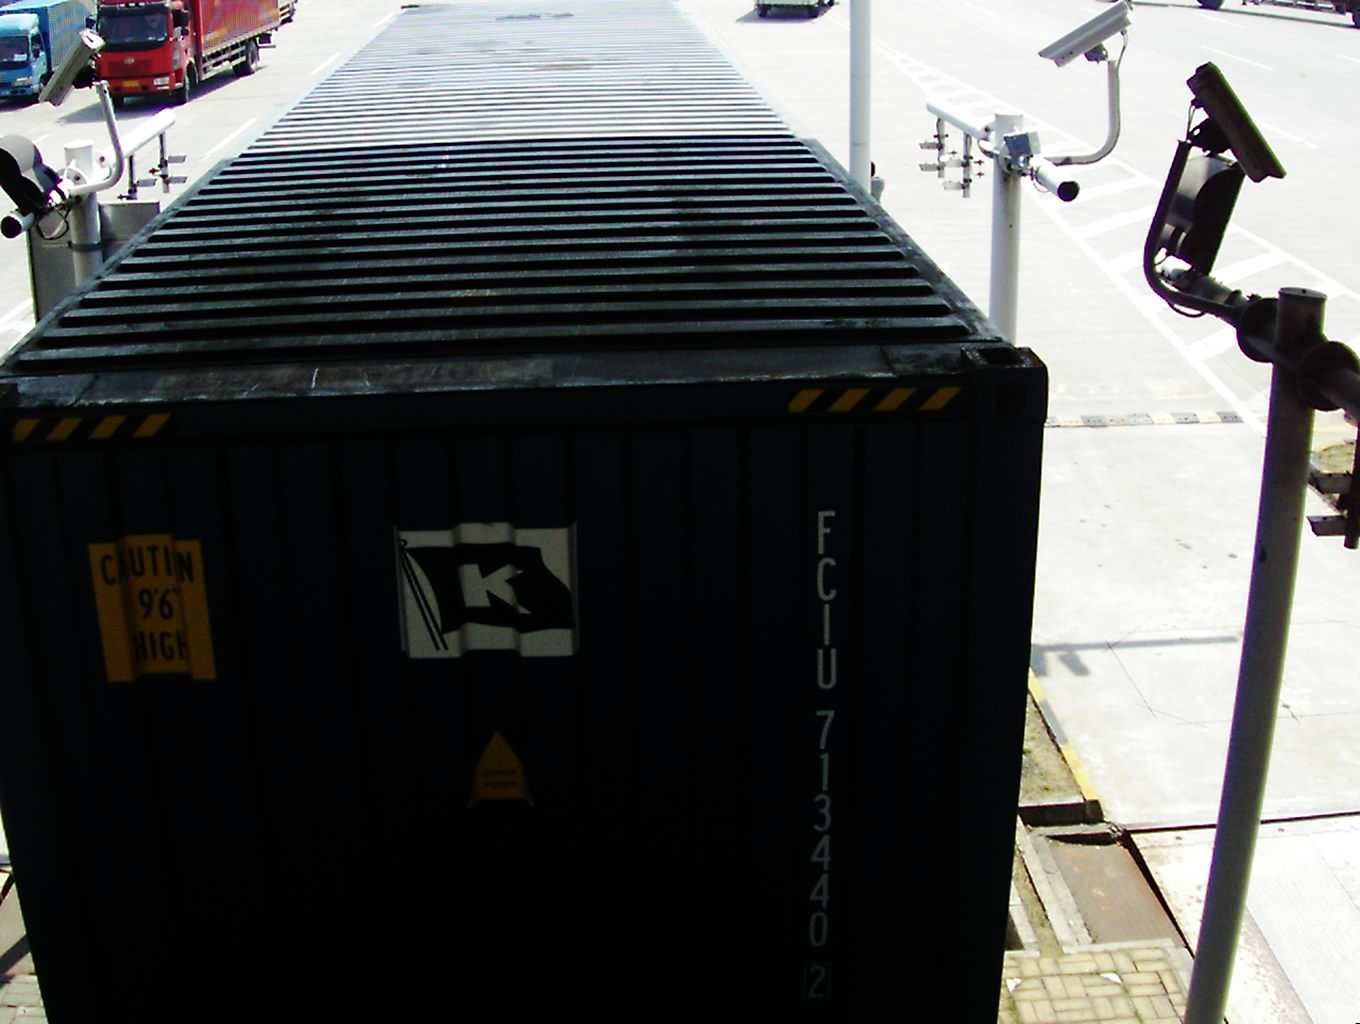words: (798, 500, 842, 1012)
